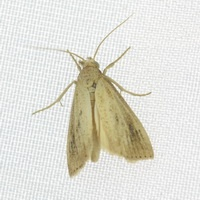insect: (32, 15, 153, 175)
